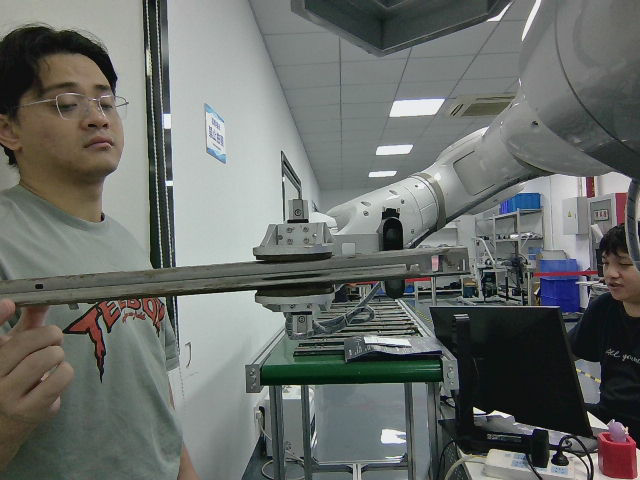down: (13, 247, 470, 307)
